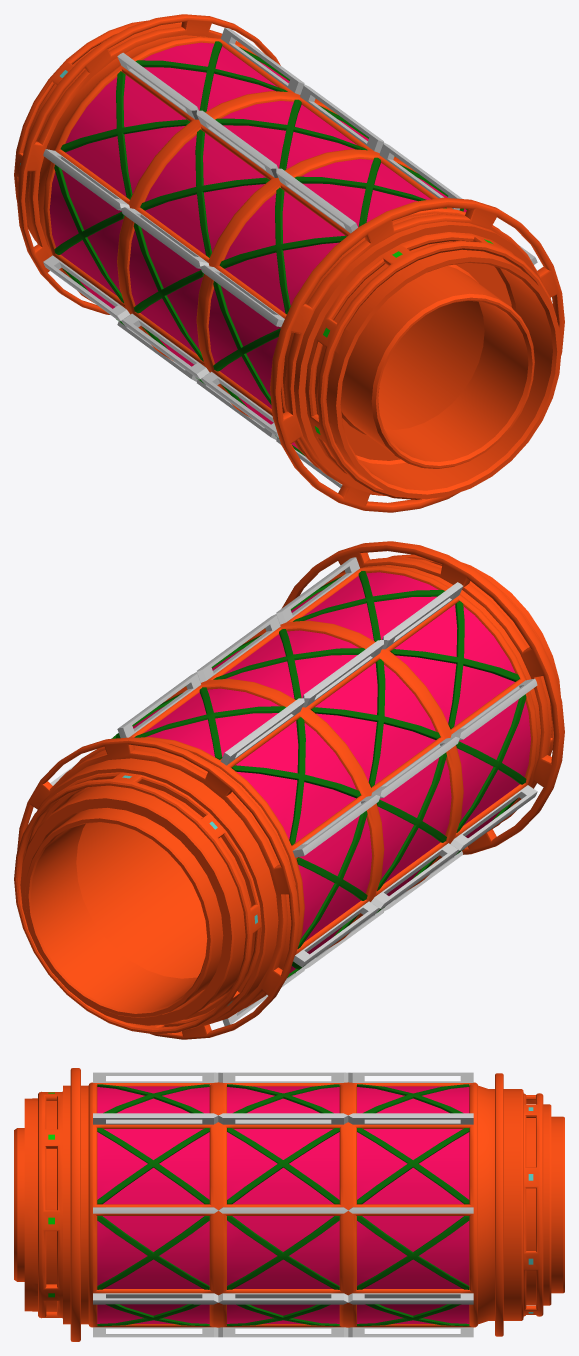
Rendered from module.obj.
The picture shows the model from 3 angles, top to bottom: view 1: azimuth 30°, elevation 25°; view 2: azimuth 150°, elevation 25°; view 3: azimuth 270°, elevation 25°; orthographic projection. The views are drawn at different scales.
Parts seen in each view (by area): view 1: Cylinder.099_Material.049, Cylinder.099_Material.062, Cylinder.099_Material.063, Cylinder.099_Material.058; view 2: Cylinder.099_Material.049, Cylinder.099_Material.062, Cylinder.099_Material.063, Cylinder.099_Material.058; view 3: Cylinder.099_Material.049, Cylinder.099_Material.062, Cylinder.099_Material.058, Cylinder.099_Material.063.
Boxes of the visible parts, box(x1,y1,x2,y2) form: Cylinder.099_Material.049: box(14, 14, 564, 512); Cylinder.099_Material.062: box(49, 42, 466, 448); Cylinder.099_Material.063: box(54, 41, 467, 456); Cylinder.099_Material.058: box(43, 27, 537, 487); Cylinder.099_Material.049: box(14, 541, 564, 1039); Cylinder.099_Material.062: box(116, 572, 530, 973); Cylinder.099_Material.063: box(111, 571, 526, 977); Cylinder.099_Material.058: box(50, 557, 537, 1026); Cylinder.099_Material.049: box(14, 1068, 564, 1341); Cylinder.099_Material.062: box(97, 1086, 469, 1323); Cylinder.099_Material.058: box(93, 1072, 473, 1337); Cylinder.099_Material.063: box(97, 1084, 469, 1326).
Bounding box in the file's own units: 5 × 5 × 10.05.
